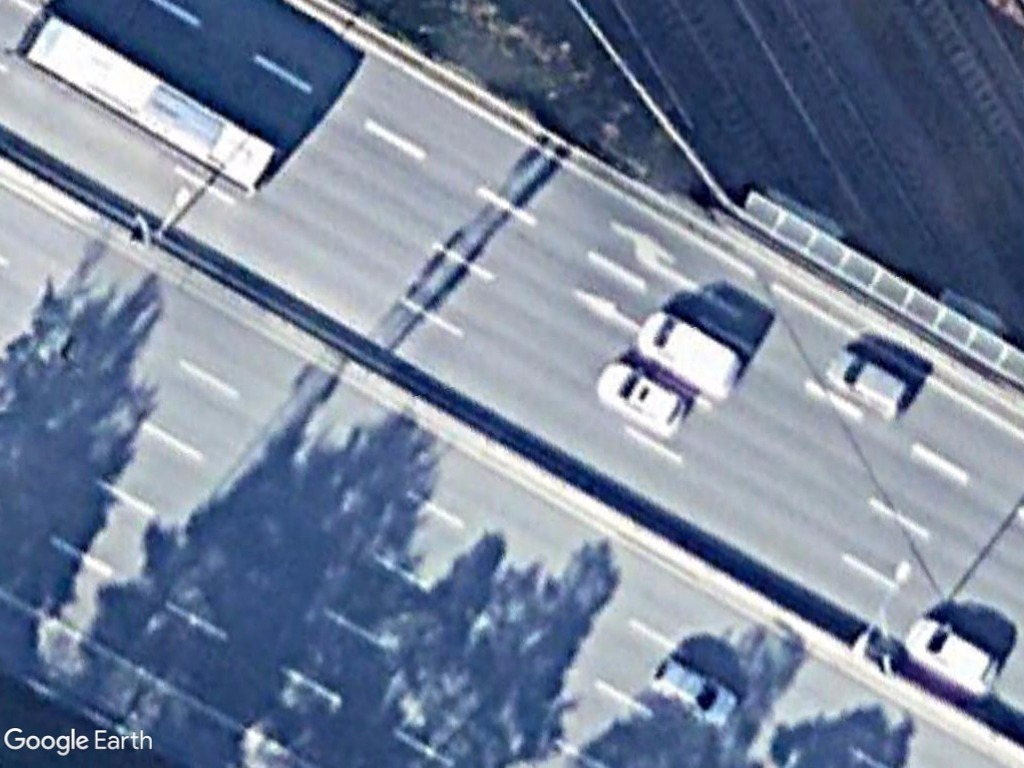bus: (15, 11, 283, 203)
car: (900, 614, 1006, 702), (593, 358, 694, 444), (821, 339, 919, 421), (645, 647, 742, 729)
van: (629, 302, 741, 399)
